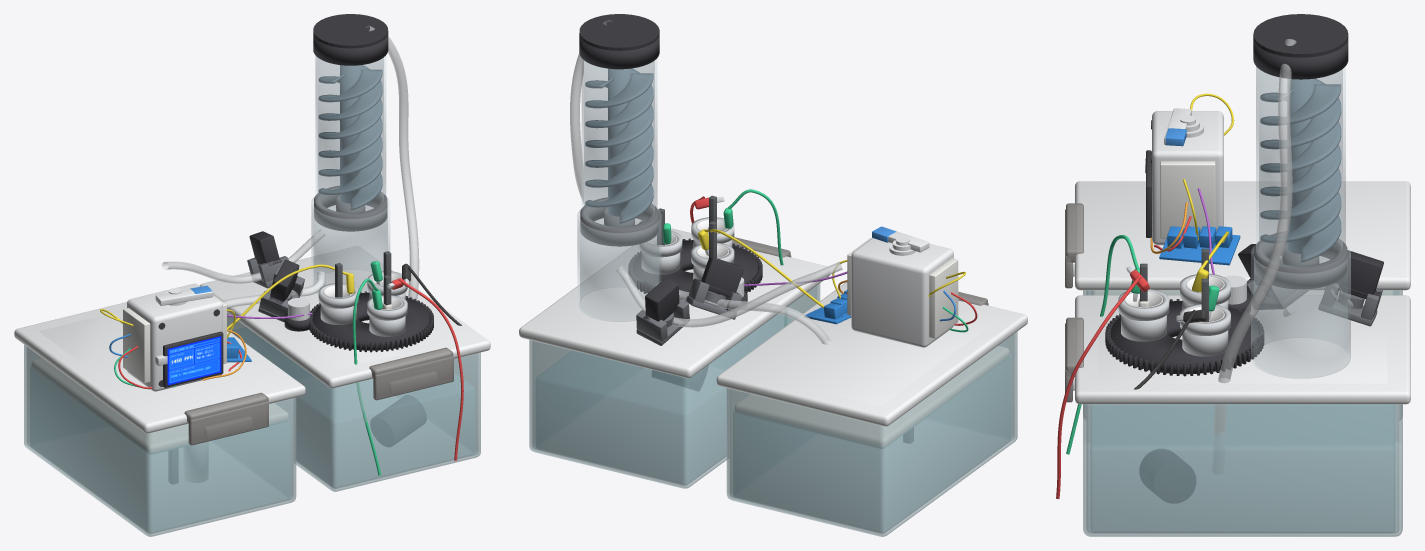
Rendered from hylex-system.glb.
3 views of the same model, side by side, from view 1: azimuth 30°, elevation 25°; view 2: azimuth 150°, elevation 25°; view 3: azimuth 270°, elevation 25° (orthographic). The views are drawn at different scales.
Visible parts, largest first — view 1: Left_TankA_Tub_Body, Right_TankB_Tub_Body, Left_TankA_White_Lid_Rim, Vortex_Upper_90mm_Acrylic_Tube, Right_TankB_White_Lid_Rim, TankA_Brine_Water_Volume, Archimedean_Triple_Helix_Insert, Vortex_Lower_Acrylic_Chamber, IP65_Enclosure_Box, TankB_Clarified_Water_Volume, TankA_Surface_ElectroFoam, Silicone_Tube_Main_Feed_Right (+26 smaller); view 2: Left_TankA_Tub_Body, Right_TankB_Tub_Body, Left_TankA_White_Lid_Rim, Right_TankB_White_Lid_Rim, Vortex_Upper_90mm_Acrylic_Tube, IP65_Enclosure_Box, Left_TankA_White_Lid_Inner, TankA_Brine_Water_Volume, Vortex_Lower_Acrylic_Chamber, TankB_Clarified_Water_Volume, Archimedean_Triple_Helix_Insert, TankA_Surface_ElectroFoam (+13 smaller); view 3: Right_TankB_Tub_Body, Left_TankA_White_Lid_Rim, Right_TankB_White_Lid_Rim, Vortex_Upper_90mm_Acrylic_Tube, TankB_Clarified_Water_Volume, Vortex_Lower_Acrylic_Chamber, Right_TankB_White_Lid_Inner, Archimedean_Triple_Helix_Insert, Silicone_Tube_Main_Feed_Right, IP65_Enclosure_Box, Carousel_72T_Ring_Gear, Breadboard_Right_Side (+21 smaller).
Part boxes in pixels (x1=…): Left_TankA_Tub_Body: x1=24, y1=345, x2=296, y2=536; Right_TankB_Tub_Body: x1=227, y1=313, x2=480, y2=491; Left_TankA_White_Lid_Rim: x1=14, y1=302, x2=305, y2=433; Vortex_Upper_90mm_Acrylic_Tube: x1=315, y1=56, x2=385, y2=214; Right_TankB_White_Lid_Rim: x1=199, y1=246, x2=490, y2=388; TankA_Brine_Water_Volume: x1=30, y1=366, x2=289, y2=530; Archimedean_Triple_Helix_Insert: x1=318, y1=65, x2=382, y2=210; Vortex_Lower_Acrylic_Chamber: x1=311, y1=196, x2=389, y2=294; IP65_Enclosure_Box: x1=127, y1=283, x2=222, y2=391; TankB_Clarified_Water_Volume: x1=232, y1=327, x2=474, y2=479; TankA_Surface_ElectroFoam: x1=31, y1=358, x2=288, y2=453; Silicone_Tube_Main_Feed_Right: x1=366, y1=25, x2=419, y2=300; Left_TankA_Tub_Body: x1=726, y1=331, x2=1017, y2=536; Right_TankB_Tub_Body: x1=529, y1=283, x2=820, y2=488; Left_TankA_White_Lid_Rim: x1=716, y1=282, x2=1027, y2=426; Right_TankB_White_Lid_Rim: x1=519, y1=228, x2=829, y2=378; Vortex_Upper_90mm_Acrylic_Tube: x1=582, y1=58, x2=657, y2=228; IP65_Enclosure_Box: x1=851, y1=238, x2=953, y2=347; Left_TankA_White_Lid_Inner: x1=751, y1=306, x2=1001, y2=405; TankA_Brine_Water_Volume: x1=733, y1=354, x2=1010, y2=530; Vortex_Lower_Acrylic_Chamber: x1=577, y1=208, x2=661, y2=321; TankB_Clarified_Water_Volume: x1=536, y1=314, x2=793, y2=479; Archimedean_Triple_Helix_Insert: x1=585, y1=68, x2=653, y2=223; TankA_Surface_ElectroFoam: x1=735, y1=346, x2=1009, y2=448; Right_TankB_Tub_Body: x1=1083, y1=404, x2=1402, y2=536; Left_TankA_White_Lid_Rim: x1=1075, y1=181, x2=1410, y2=290; Right_TankB_White_Lid_Rim: x1=1075, y1=295, x2=1410, y2=404; Vortex_Upper_90mm_Acrylic_Tube: x1=1256, y1=66, x2=1345, y2=268; TankB_Clarified_Water_Volume: x1=1090, y1=404, x2=1394, y2=532; Vortex_Lower_Acrylic_Chamber: x1=1251, y1=245, x2=1350, y2=378; Right_TankB_White_Lid_Inner: x1=1098, y1=321, x2=1387, y2=383; Archimedean_Triple_Helix_Insert: x1=1260, y1=78, x2=1341, y2=262; Silicone_Tube_Main_Feed_Right: x1=1214, y1=39, x2=1296, y2=435; IP65_Enclosure_Box: x1=1152, y1=111, x2=1223, y2=245; Carousel_72T_Ring_Gear: x1=1111, y1=301, x2=1258, y2=374; Breadboard_Right_Side: x1=1160, y1=161, x2=1215, y2=238.
Size of the model in its own units: 0.506 by 0.5306 by 0.3548.
Materials: 27 (1 with a texture image).
